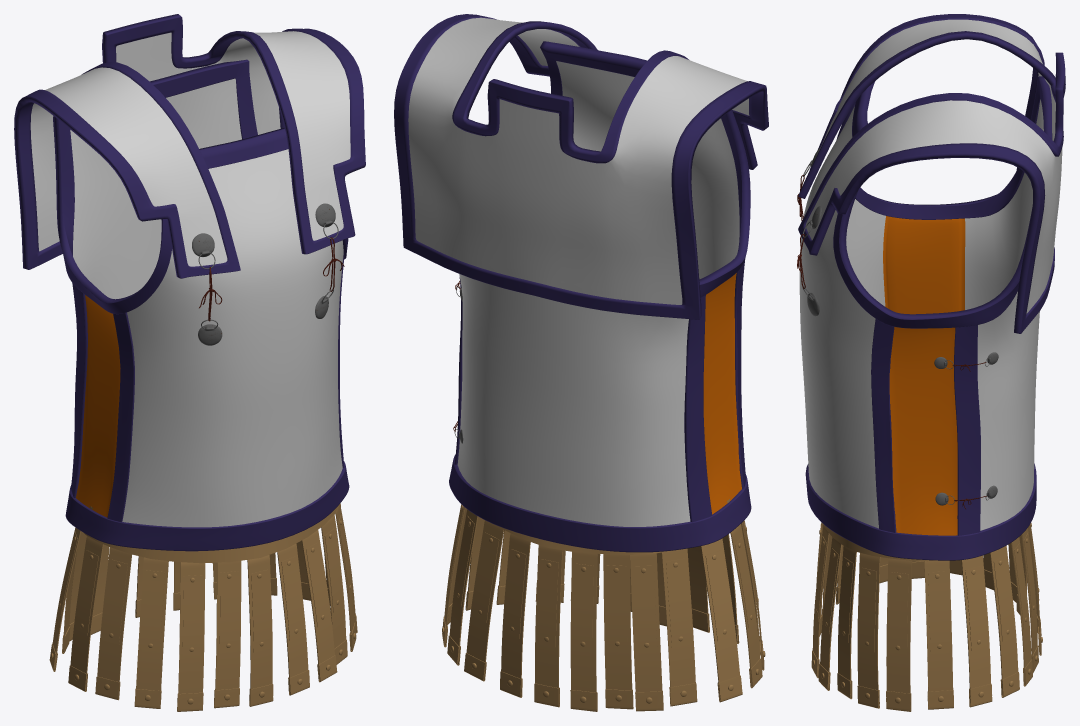
File: Spartan Sold Linothorax.fbx
3 views of the same model, side by side, from view 1: azimuth 30°, elevation 25°; view 2: azimuth 150°, elevation 25°; view 3: azimuth 270°, elevation 25° (orthographic). The views are drawn at different scales.
Parts seen in each view (by area): view 1: Athenas Sold Chest Base, Rim Belts.003, Athenas belt Sold, Ring Straps.003; view 2: Athenas Sold Chest Base, Rim Belts.003, Athenas belt Sold; view 3: Athenas Sold Chest Base, Rim Belts.003, Athenas belt Sold, Ring Straps.003.
Boxes of the visible parts, x1,y1,x2,y2 form: Athenas Sold Chest Base: [30, 31, 350, 527]; Rim Belts.003: [14, 14, 365, 551]; Athenas belt Sold: [49, 503, 357, 711]; Ring Straps.003: [192, 203, 344, 345]; Athenas Sold Chest Base: [408, 17, 749, 526]; Rim Belts.003: [394, 14, 768, 552]; Athenas belt Sold: [442, 499, 765, 711]; Athenas Sold Chest Base: [799, 19, 1062, 535]; Rim Belts.003: [798, 14, 1065, 560]; Athenas belt Sold: [811, 522, 1042, 711]; Ring Straps.003: [797, 147, 998, 508].
Size of the model in its own units: 42.13 by 84.06 by 34.27.
